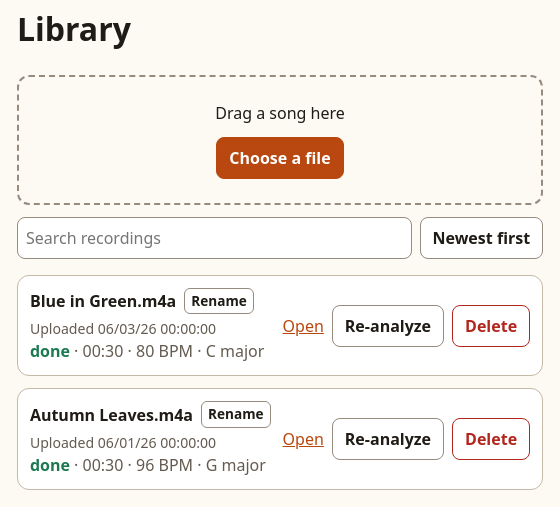
Test: search narrows the visible recordings
Expected: the text "Autumn Leaves.m4a" is shown, [30,403,193,427]
Type "blue" into the search field with placeholder "Search recordings" at (214, 238), box [17,217,412,259]
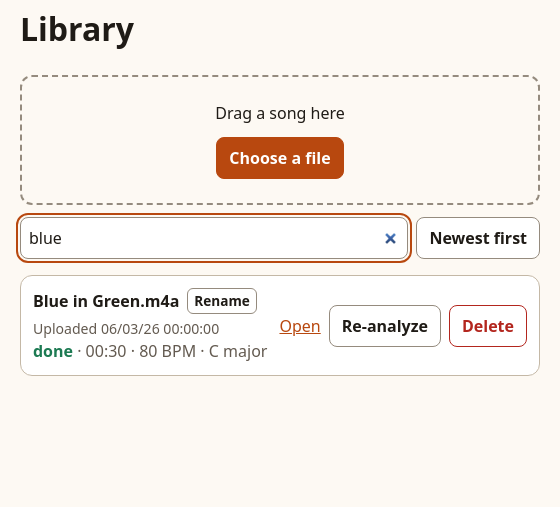
Expected: the text "Blue in Green.m4a" is shown, [33,289,179,313]
Expected: the text "Autumn Leaves.m4a" is gone
